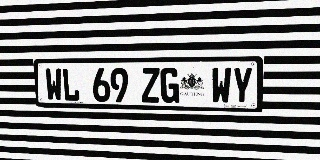6: (92, 68, 110, 102)
9: (110, 68, 129, 102)
G: (160, 67, 179, 103)
L: (62, 68, 80, 101)
W: (211, 67, 231, 104), (45, 68, 63, 101)
Y: (231, 67, 253, 104)
Z: (141, 68, 160, 103)
